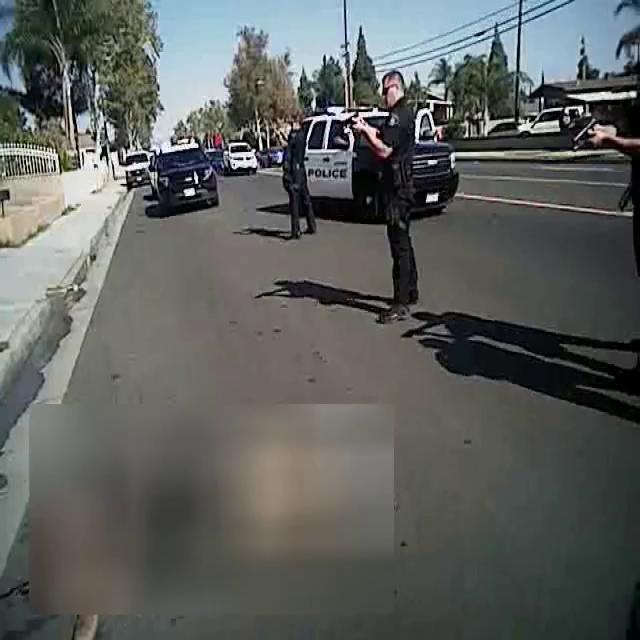gun: (559, 101, 602, 157), (333, 105, 362, 135), (266, 127, 282, 139)
